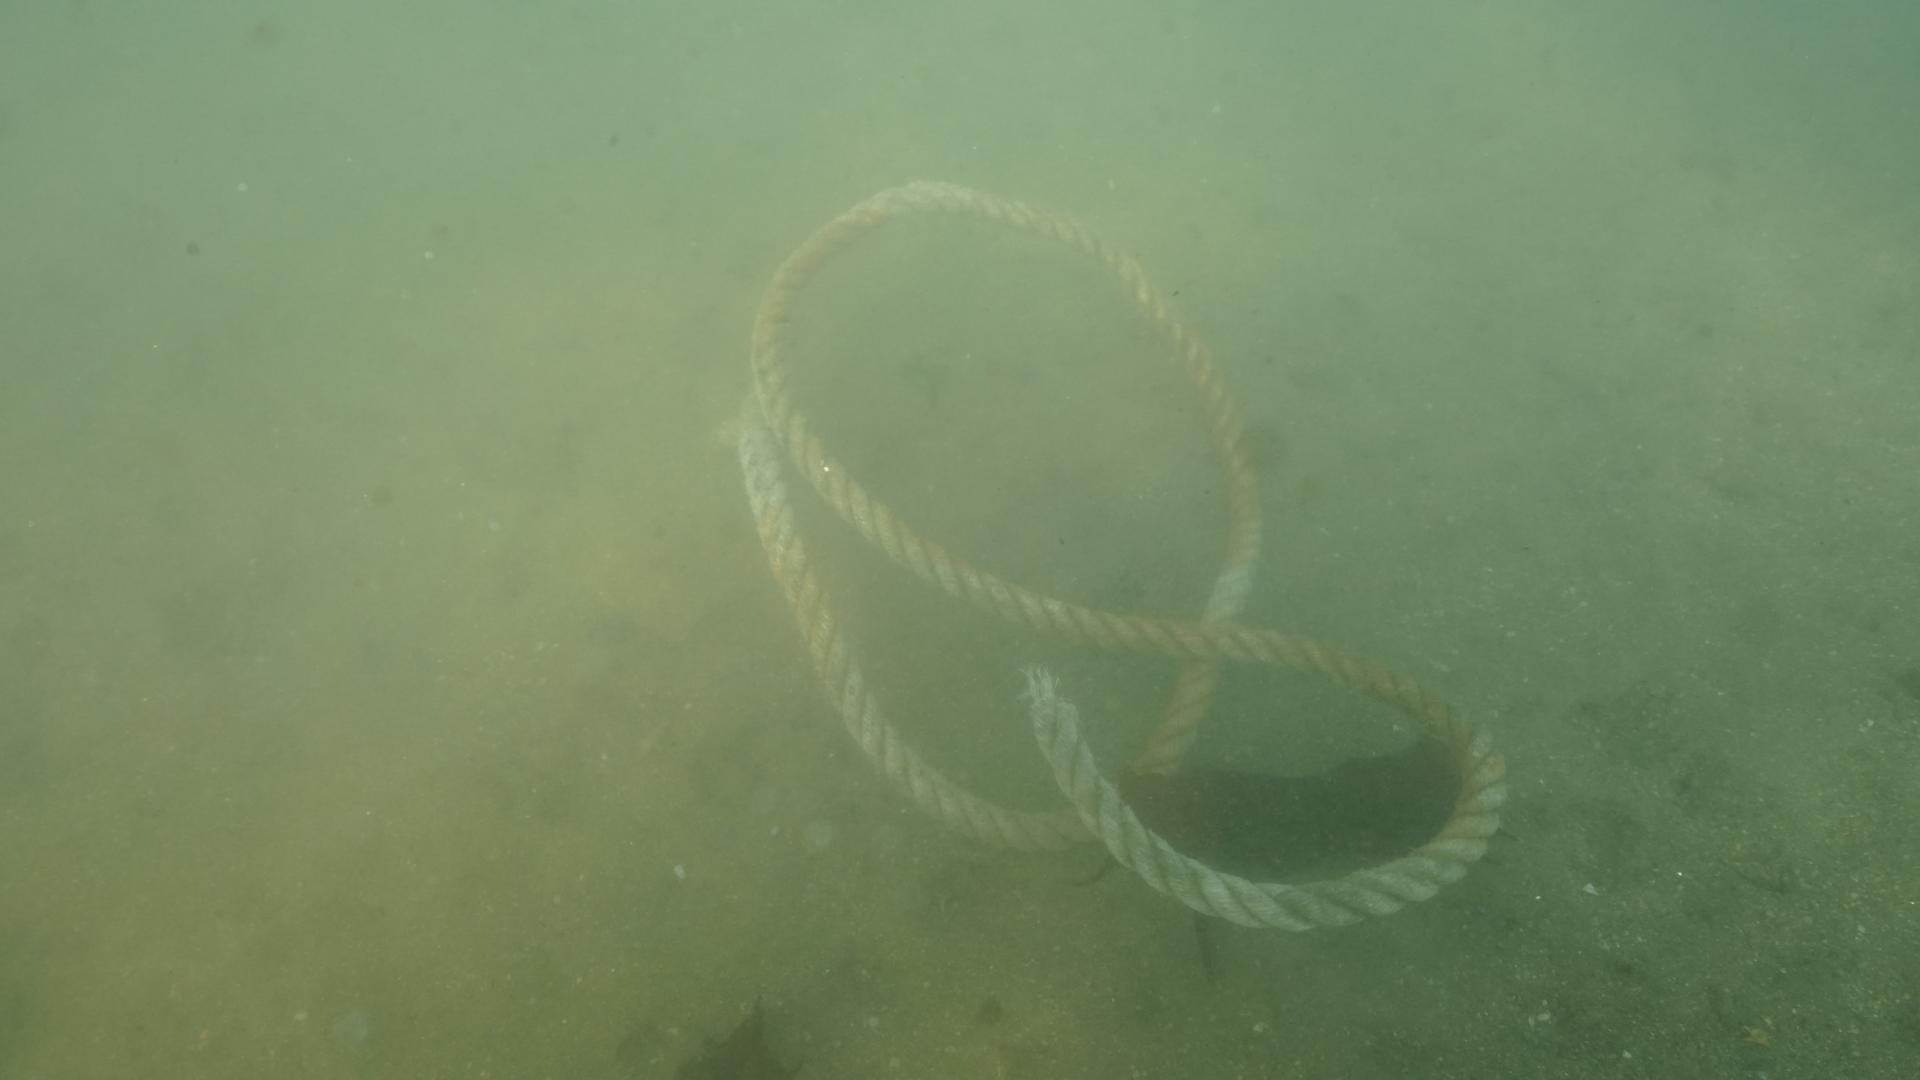bundle of ropes: (728, 171, 1516, 939)
